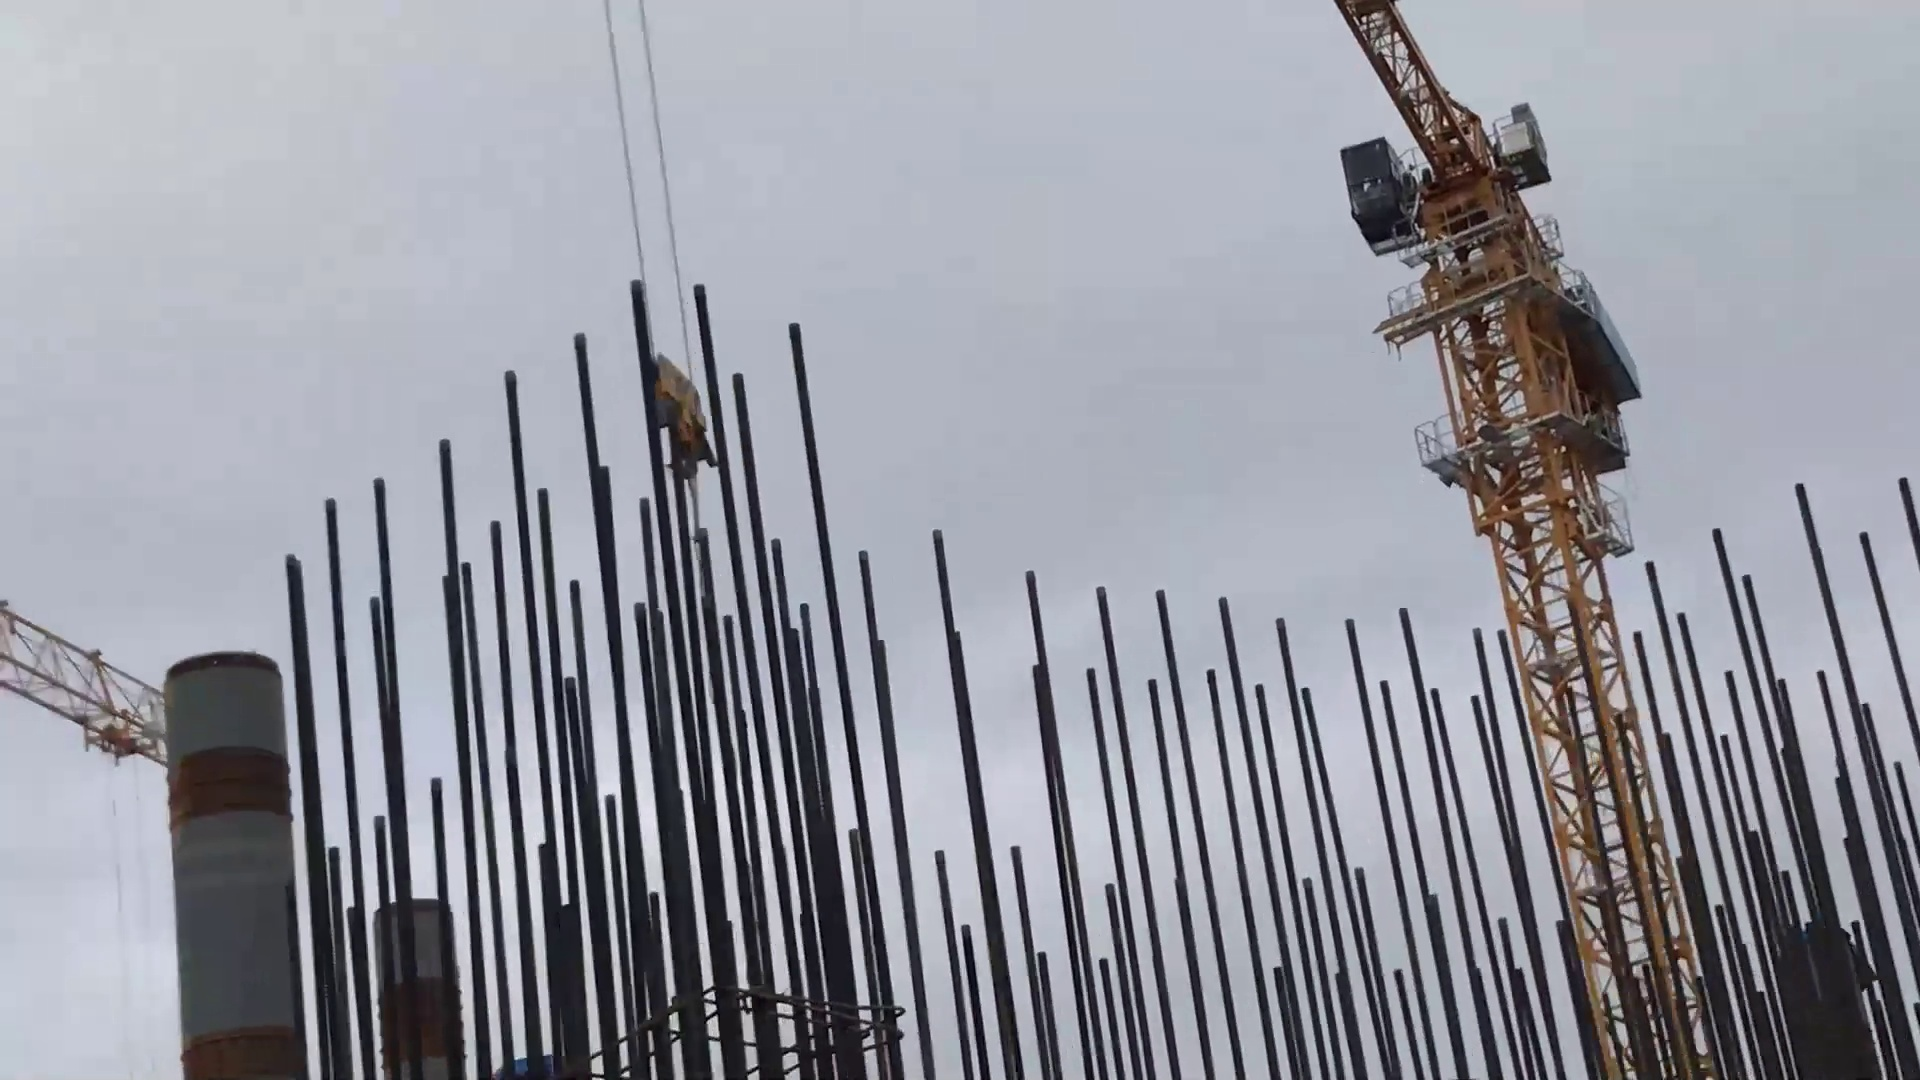hook: (629, 345, 725, 484)
